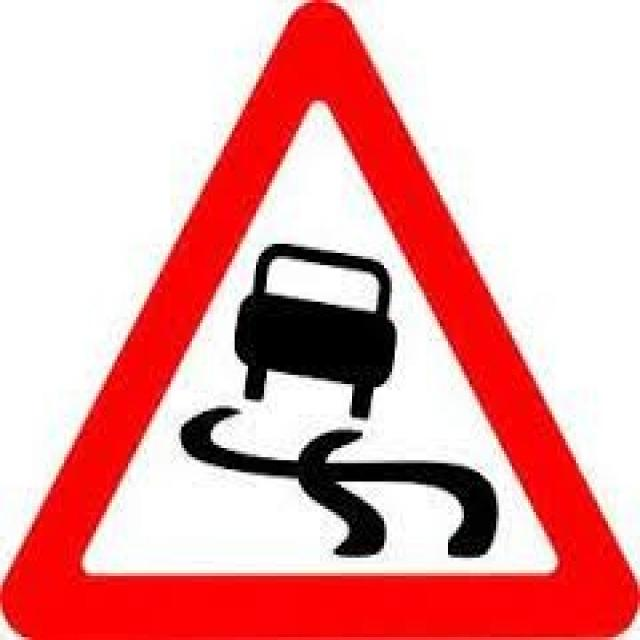road_slippery: (0, 3, 640, 640)
